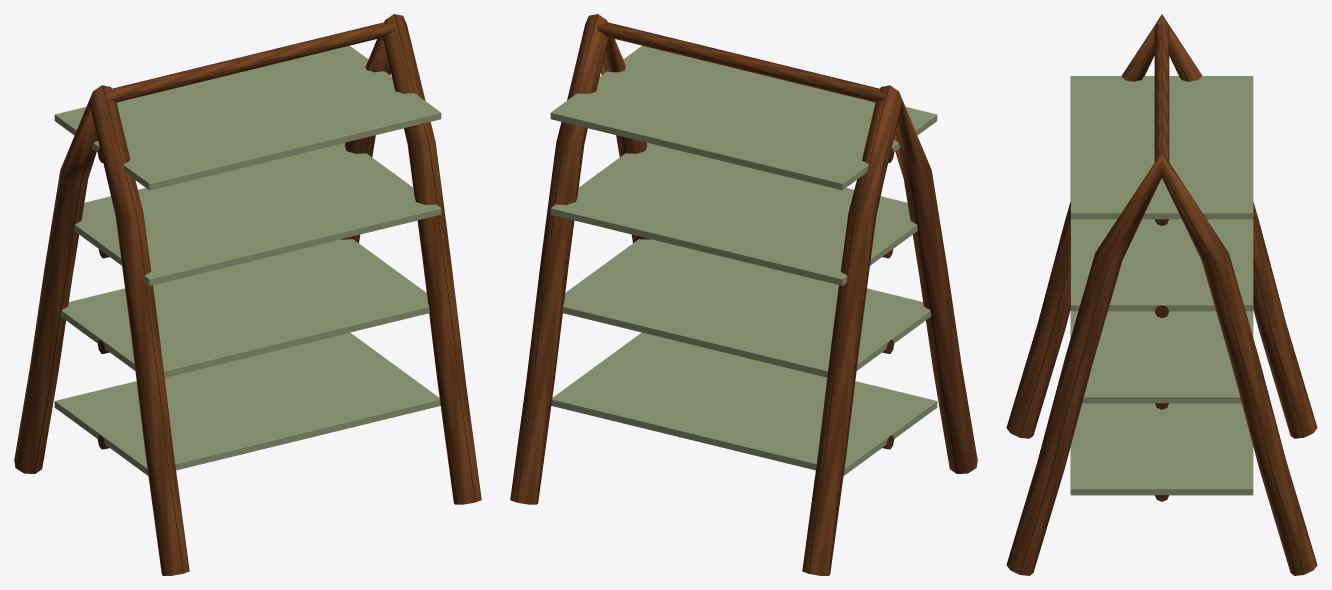
File: survival-food-and-preservation-tiered-drying-rack-c3be641e__21803.glb
3 views of the same model, side by side, from view 1: azimuth 30°, elevation 25°; view 2: azimuth 150°, elevation 25°; view 3: azimuth 270°, elevation 25° (orthographic). The views are drawn at different scales.
Parts seen in each view (by area): view 1: tiered-drying-rack; view 2: tiered-drying-rack; view 3: tiered-drying-rack.
Boxes of the visible parts, x1,y1,x2,y2 form: tiered-drying-rack: (14, 14, 481, 575); tiered-drying-rack: (510, 14, 977, 575); tiered-drying-rack: (1006, 14, 1317, 575).
Size of the model in its own units: 0.87 by 1.15 by 0.7667.
2 materials, 1 textured.
